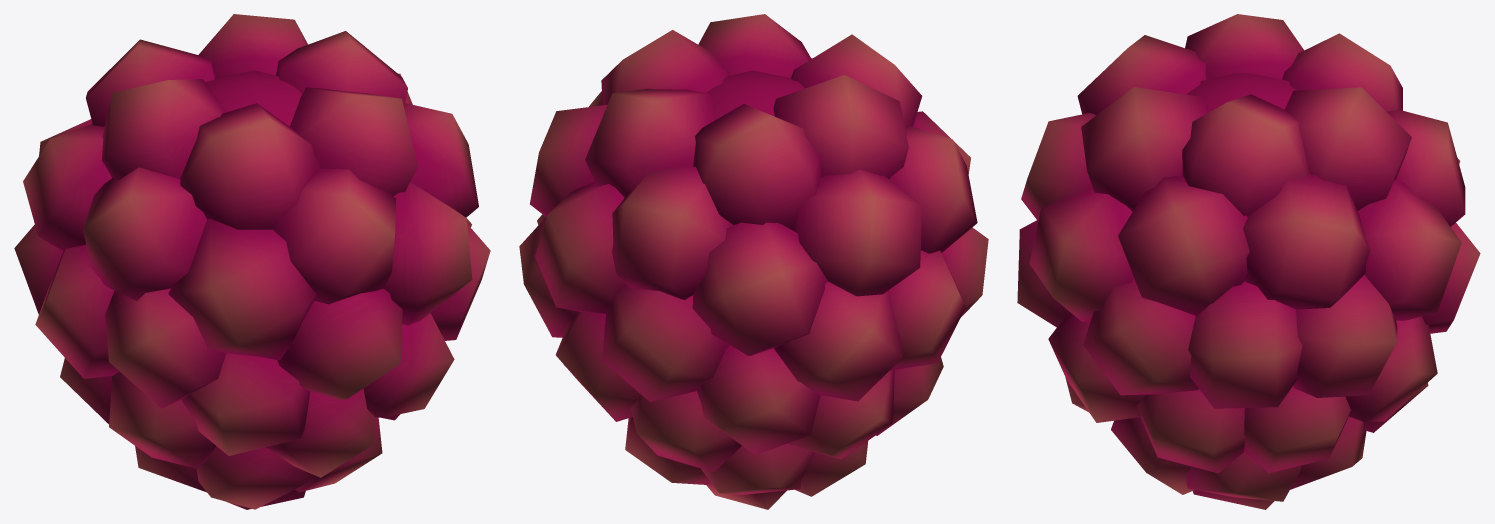
Rendered from Raspberry.glb.
3 renders of one model, left to right at view 1: azimuth 30°, elevation 25°; view 2: azimuth 150°, elevation 25°; view 3: azimuth 270°, elevation 25°, orthographic.
Parts seen in each view (by area): view 1: geometry_0; view 2: geometry_0; view 3: geometry_0.
Part boxes in pixels (x1,y1,x2,y2): geometry_0: [14, 14, 490, 509]; geometry_0: [519, 14, 988, 509]; geometry_0: [1017, 14, 1480, 509].
Bounding box in the file's own units: 1.15 × 1.18 × 1.13.
Materials: 1 (1 with a texture image).
